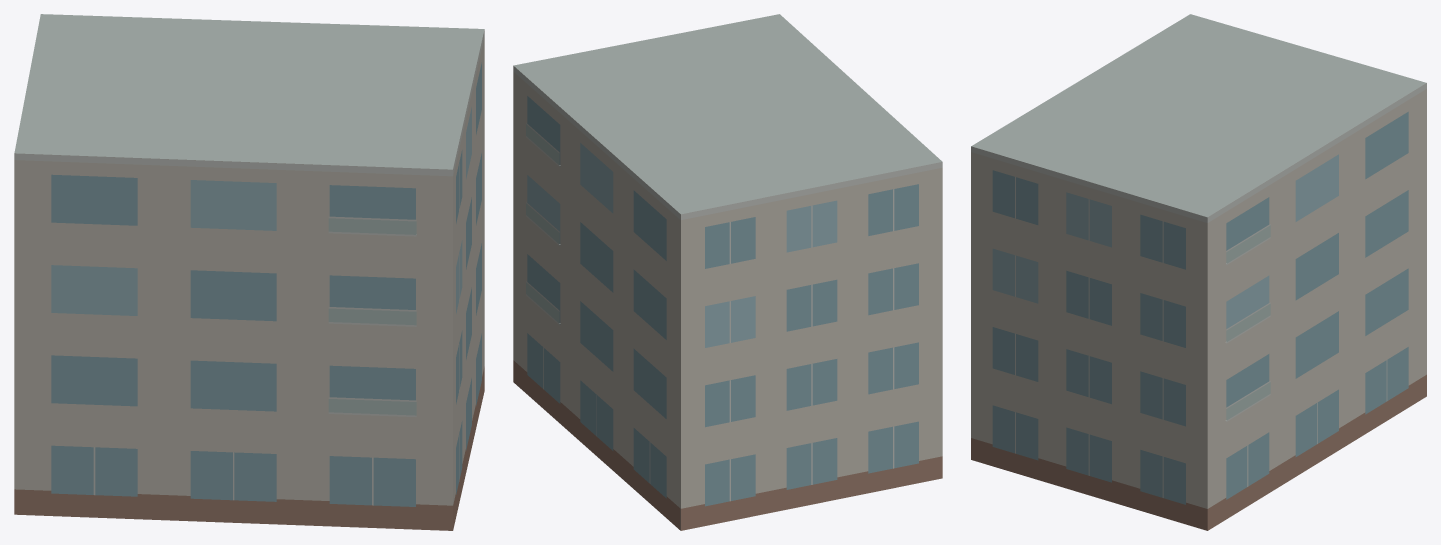
The model's file is survey-upis-32850013.glb.
3 views of the same model, side by side, from view 1: azimuth 30°, elevation 25°; view 2: azimuth 150°, elevation 25°; view 3: azimuth 270°, elevation 25° (orthographic). The views are drawn at different scales.
Visible parts, largest first — view 1: survey-upis-32850013.tmp; view 2: survey-upis-32850013.tmp; view 3: survey-upis-32850013.tmp.
Boxes of the visible parts, x1=… form: survey-upis-32850013.tmp: x1=14, y1=14, x2=484, y2=530; survey-upis-32850013.tmp: x1=513, y1=14, x2=942, y2=530; survey-upis-32850013.tmp: x1=971, y1=14, x2=1426, y2=530.
Bounding box in the file's own units: 18.32 × 13.16 × 17.34.
